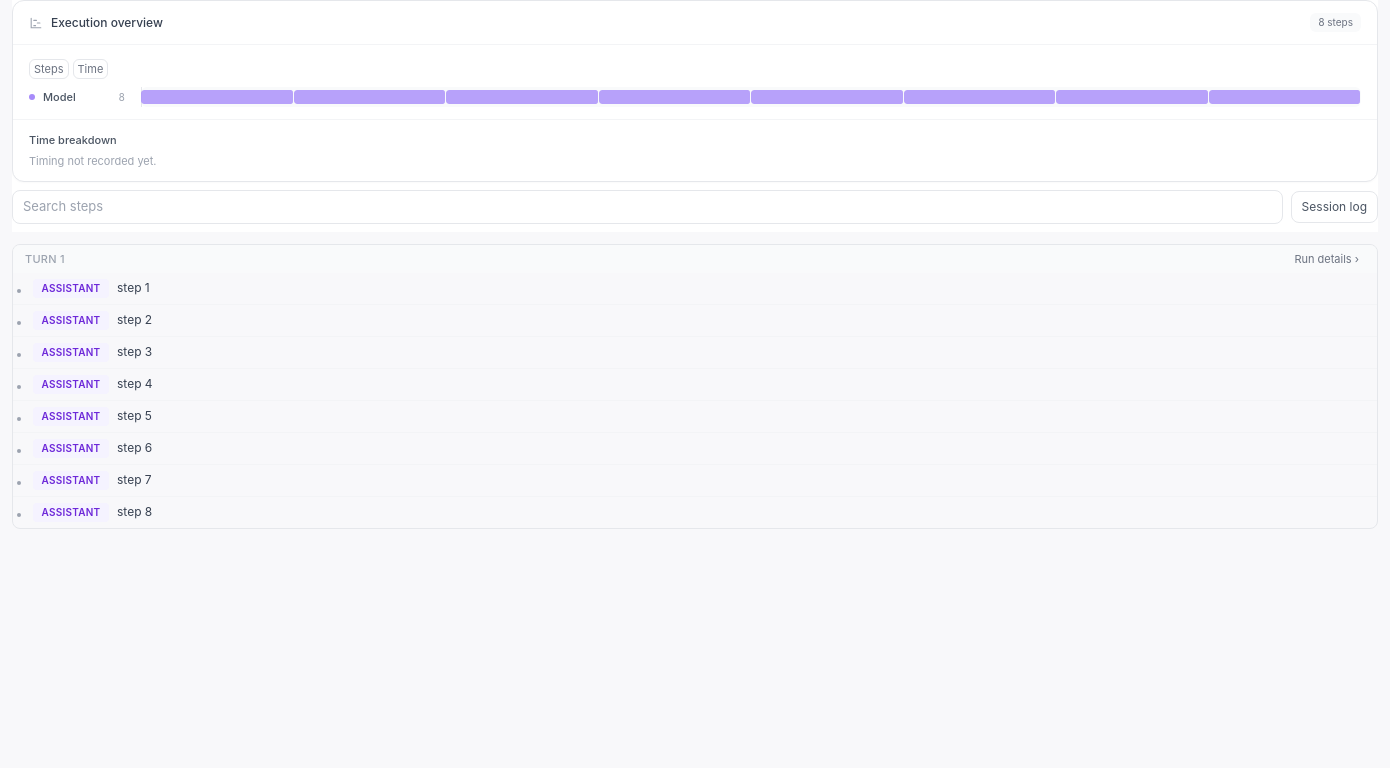
Test case: TrajectoryView overview › selects an interval on a drag and steps the rows outside it back
Press the mouse on the element named "execution overview": (751, 97) [141, 87, 1361, 107]
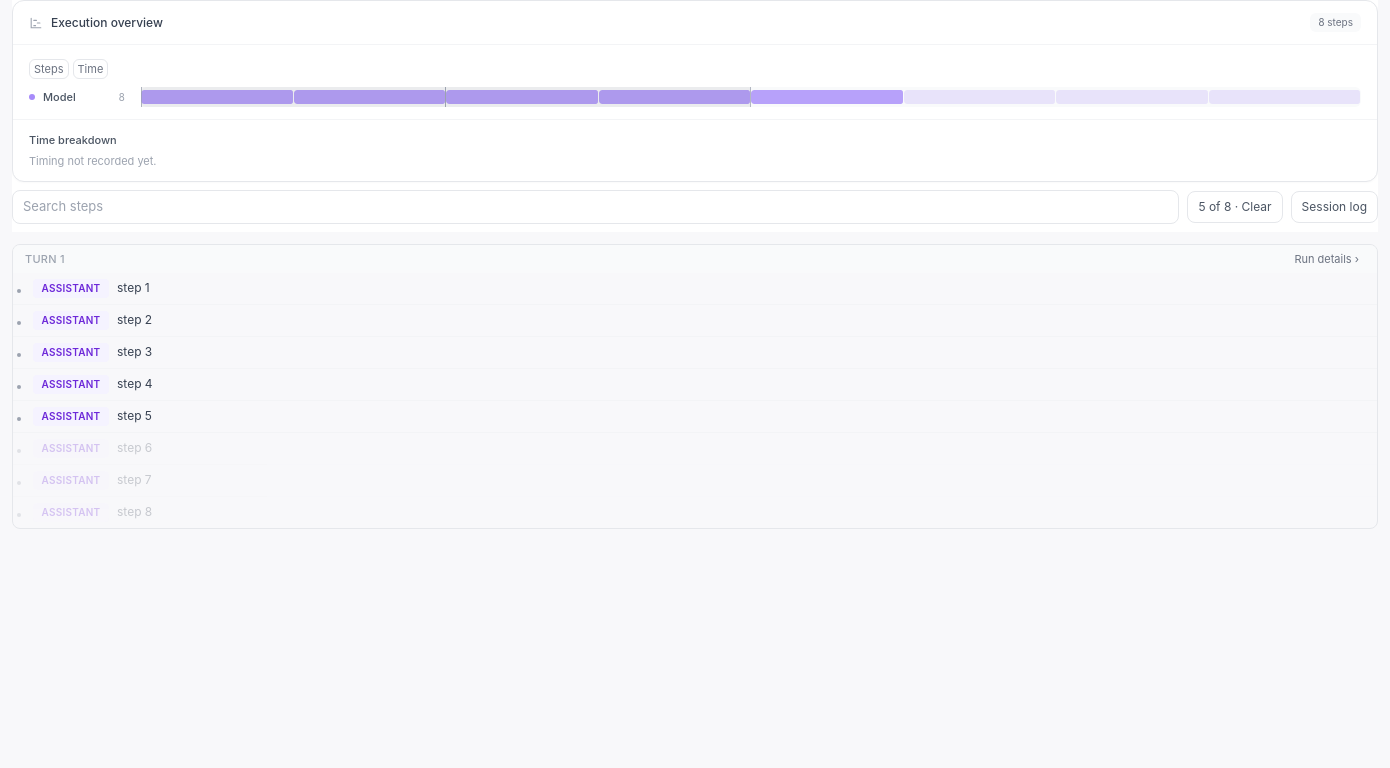
Expected: the element showing "Turn 1 Run details › assistant step 1" is shown, [13, 244, 1377, 305]
Expected: the button "5 of 8 · Clear" is shown, [1187, 191, 1283, 223]
